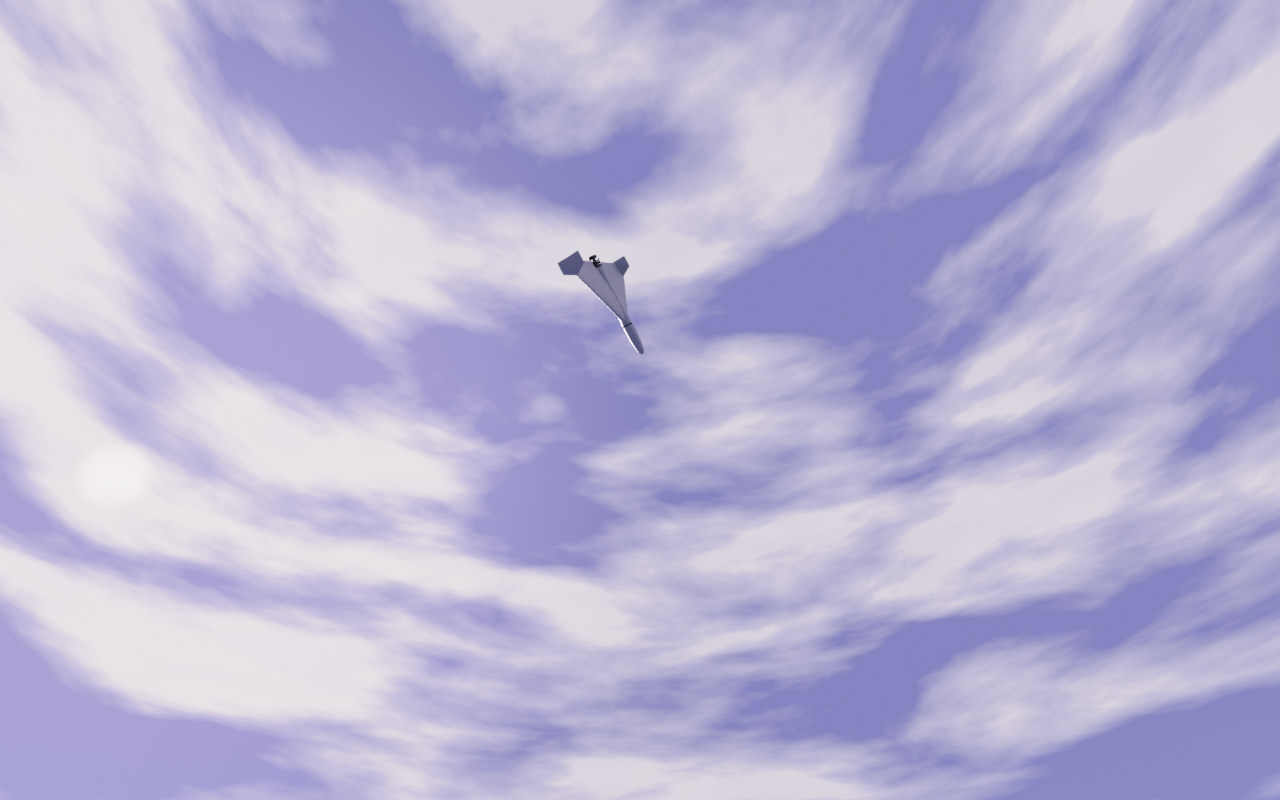shahed: (558, 250, 646, 357)
